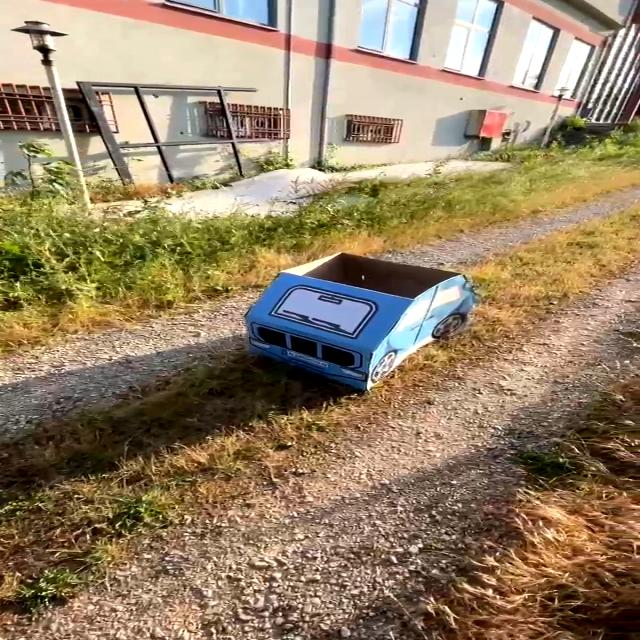blue_car: (221, 228, 490, 436)
